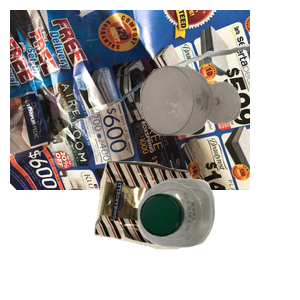glass: (138, 63, 300, 191)
paper: (10, 10, 250, 190)
plastic: (135, 176, 300, 300)
trash: (92, 158, 277, 300)
